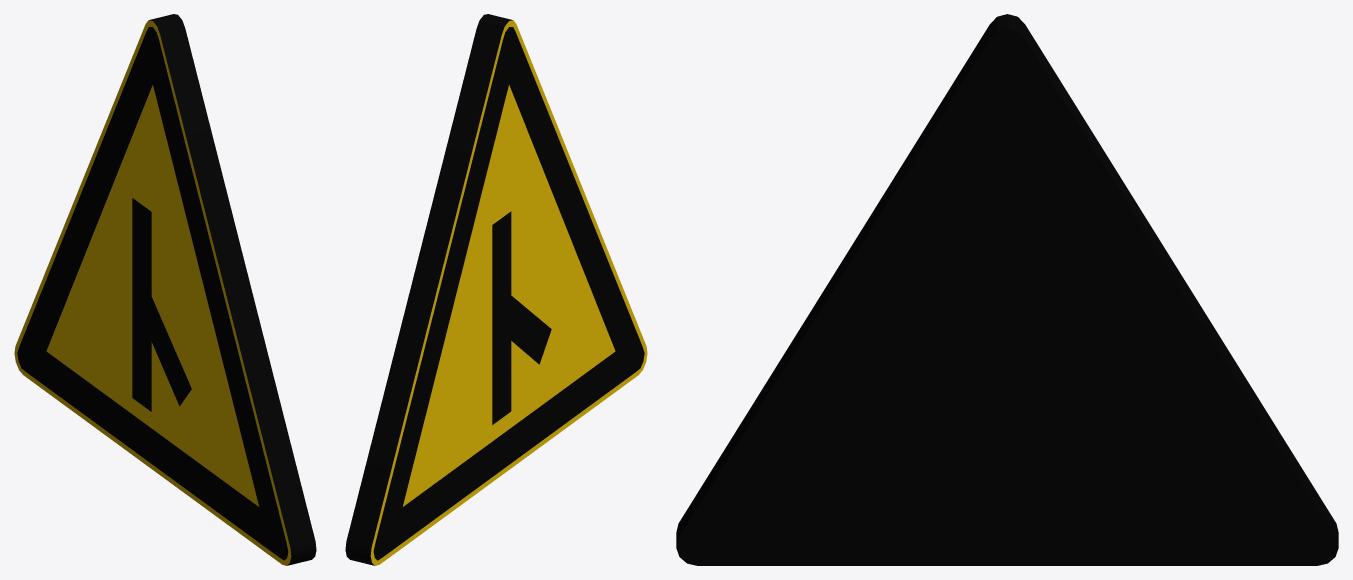
The model's file is Y_Crossing-2.fbx.
The picture shows the model from 3 angles, left to right: view 1: azimuth 30°, elevation 25°; view 2: azimuth 150°, elevation 25°; view 3: azimuth 270°, elevation 25°; orthographic projection. The views are drawn at different scales.
Parts seen in each view (by area): view 1: Y_Crossing_2; view 2: Y_Crossing_2; view 3: Y_Crossing_2.
Part boxes in pixels (bbox=[...]): Y_Crossing_2: bbox=[14, 14, 316, 565]; Y_Crossing_2: bbox=[345, 14, 647, 565]; Y_Crossing_2: bbox=[676, 14, 1338, 565].
Bounding box in the file's own units: 0.0643 × 1.02 × 1.14.
